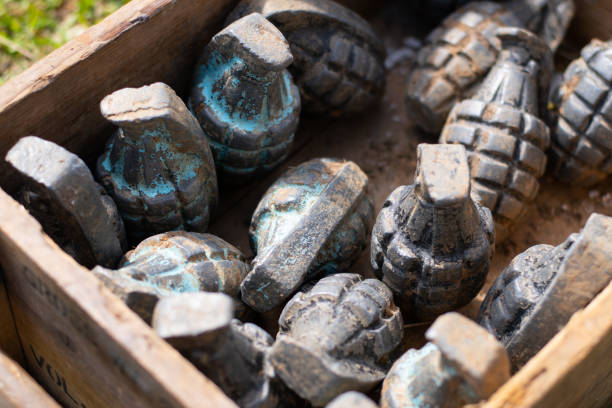e1: (374, 141, 493, 303), (250, 156, 369, 297)
